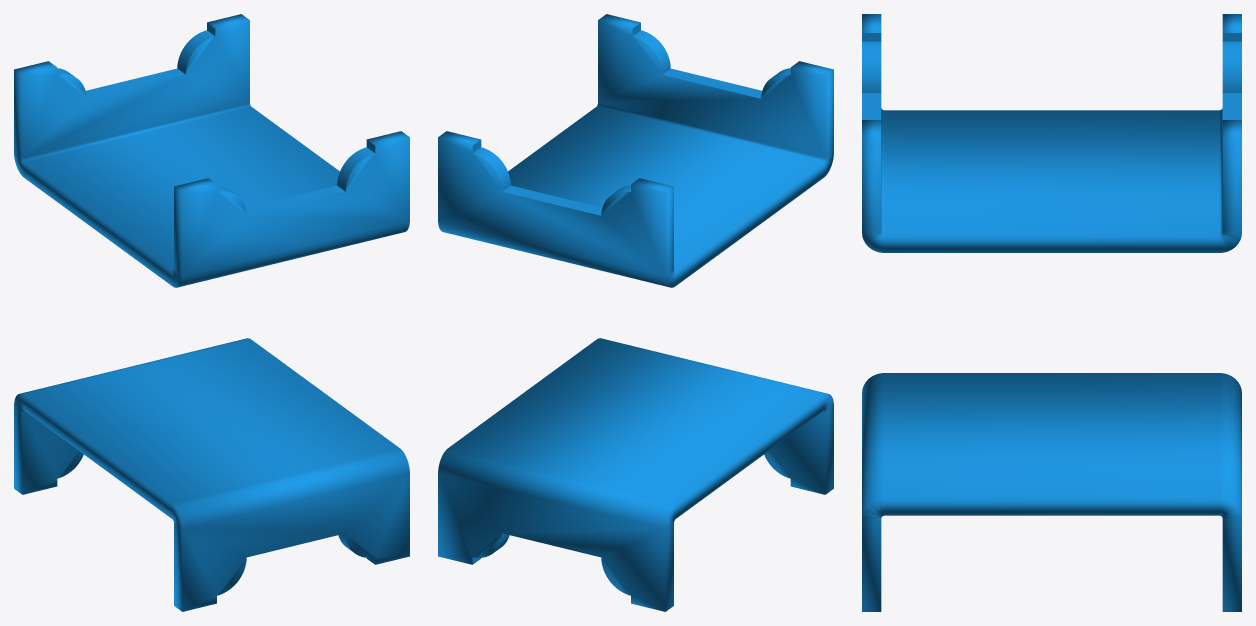
Rendered from forearm_metal_part.dae.
3 views of the same model, side by side, from view 1: azimuth 30°, elevation 25°; view 2: azimuth 150°, elevation 25°; view 3: azimuth 270°, elevation 25° (orthographic). The views are drawn at different scales.
Parts seen in each view (by area): view 1: forearm_metal_part; view 2: forearm_metal_part; view 3: forearm_metal_part.
Part boxes in pixels (x1,y1,x2,y2): forearm_metal_part: (14,14,409,611); forearm_metal_part: (438,14,833,611); forearm_metal_part: (862,14,1241,611).
Bounding box in the file's own units: 23 × 29.5 × 40.5.
